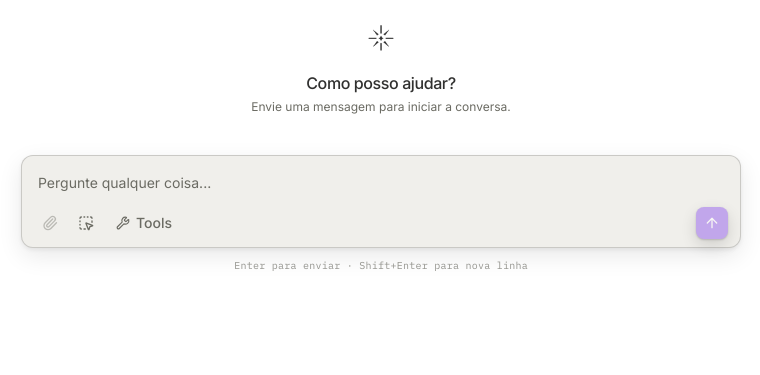
Test case: IslandChat › T4.1 última assistente done mostra Copiar
This screenshot has width=760, height=375.
Type "oi" into the text box with placeholder "Pergunte qualquer coisa..." at (381,183), box [30,164,732,203]
Then press Enter
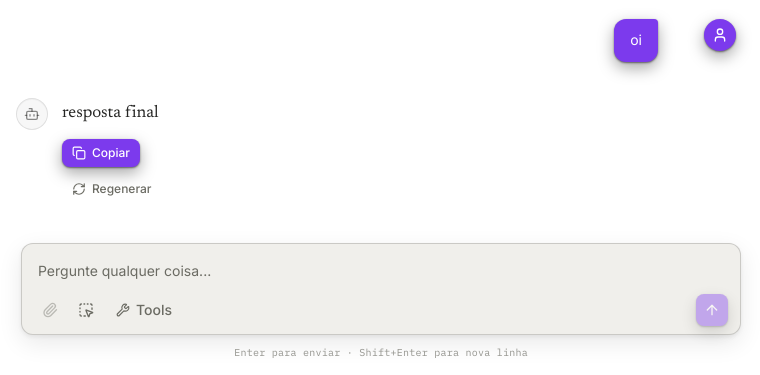
Expected: the button "Copiar" is shown, [62,139,140,167]
